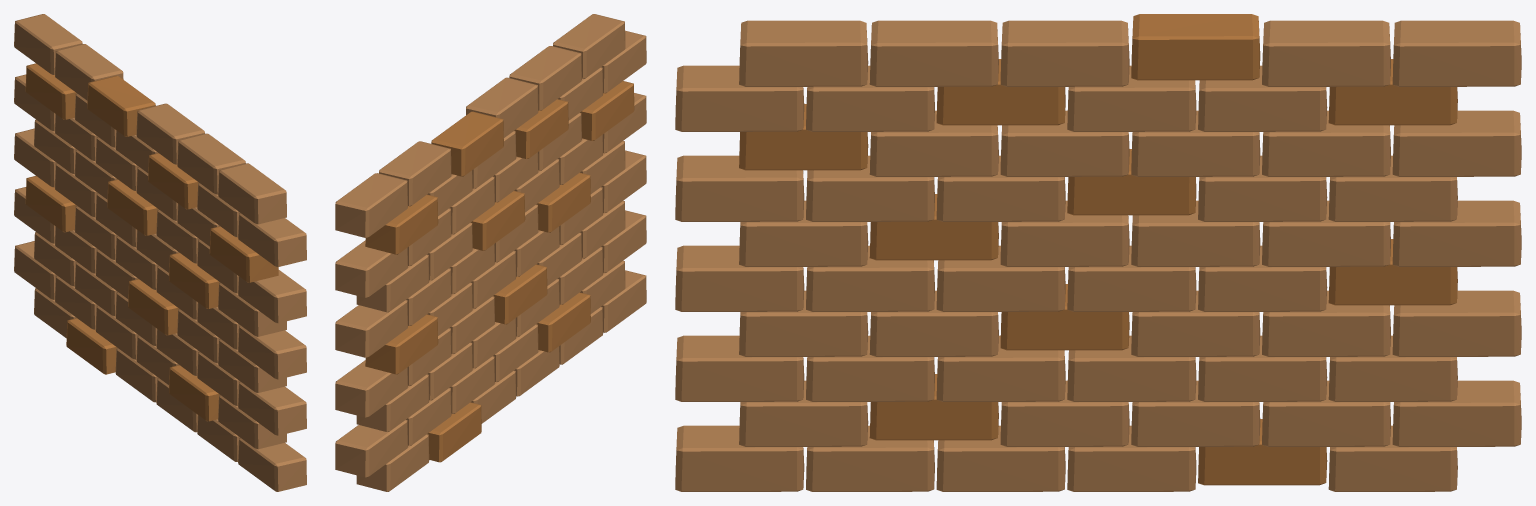
Rendered from Tembok1.dae.
The picture shows the model from 3 angles, left to right: view 1: azimuth 30°, elevation 25°; view 2: azimuth 150°, elevation 25°; view 3: azimuth 270°, elevation 25°; orthographic projection. The views are drawn at different scales.
Parts seen in each view (by area): view 1: Cube.015, Cube.009, Cube.008, Cube.004, Cube, Cube.002, Cube.006, Cube.019, Cube.059, Cube.029, Cube.049, Cube.005 (+39 smaller); view 2: Cube.015, Cube.059, Cube.055, Cube.051, Cube.057, Cube.053, Cube.049, Cube.009, Cube.019, Cube.029, Cube.050, Cube.056 (+39 smaller); view 3: Cube.015, Cube.059, Cube.029, Cube.019, Cube.009, Cube.049, Cube.057, Cube.053, Cube.006, Cube.055, Cube.051, Cube.008 (+39 smaller).
Boxes of the visible parts, left/top/right/bottom form: Cube.015: left=25, top=63, right=278, bottom=421; Cube.009: left=218, top=163, right=286, bottom=224; Cube.008: left=238, top=213, right=306, bottom=266; Cube.004: left=238, top=325, right=306, bottom=379; Cube: left=238, top=437, right=306, bottom=491; Cube.002: left=238, top=381, right=306, bottom=435; Cube.006: left=238, top=270, right=306, bottom=323; Cube.019: left=177, top=133, right=245, bottom=194; Cube.059: left=14, top=14, right=82, bottom=74; Cube.029: left=136, top=103, right=204, bottom=164; Cube.049: left=55, top=44, right=123, bottom=100; Cube.005: left=218, top=282, right=286, bottom=336; Cube.015: left=365, top=81, right=634, bottom=462; Cube.059: left=335, top=173, right=407, bottom=237; Cube.055: left=335, top=300, right=407, bottom=357; Cube.051: left=335, top=420, right=407, bottom=477; Cube.057: left=335, top=240, right=407, bottom=297; Cube.053: left=335, top=360, right=407, bottom=417; Cube.049: left=379, top=141, right=451, bottom=206; Cube.009: left=553, top=14, right=625, bottom=78; Cube.019: left=509, top=46, right=581, bottom=110; Cube.029: left=466, top=77, right=538, bottom=137; Cube.050: left=356, top=434, right=429, bottom=491; Cube.056: left=356, top=254, right=429, bottom=312; Cube.015: left=739, top=14, right=1457, bottom=485; Cube.059: left=1392, top=20, right=1521, bottom=86; Cube.029: left=1000, top=20, right=1129, bottom=86; Cube.019: left=869, top=20, right=998, bottom=86; Cube.009: left=739, top=20, right=868, bottom=86; Cube.049: left=1262, top=20, right=1390, bottom=86; Cube.057: left=1392, top=110, right=1521, bottom=176; Cube.053: left=1392, top=290, right=1521, bottom=356; Cube.006: left=675, top=155, right=804, bottom=221; Cube.055: left=1392, top=200, right=1521, bottom=266; Cube.051: left=1392, top=380, right=1521, bottom=446; Cube.008: left=675, top=65, right=804, bottom=131.
Bounding box in the file's own units: 1.95 × 22.28 × 13.05.
